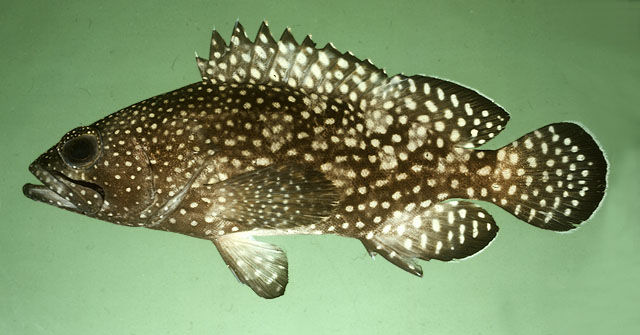fish: (22, 14, 610, 301)
